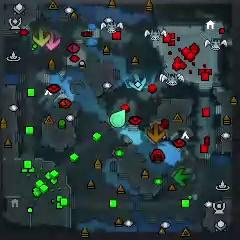p2: (111, 110, 127, 127)
x1: (45, 34, 60, 51)
x2: (32, 28, 51, 48)
x3: (128, 73, 146, 91)
x4: (174, 166, 194, 188)
x5: (147, 125, 164, 142)
